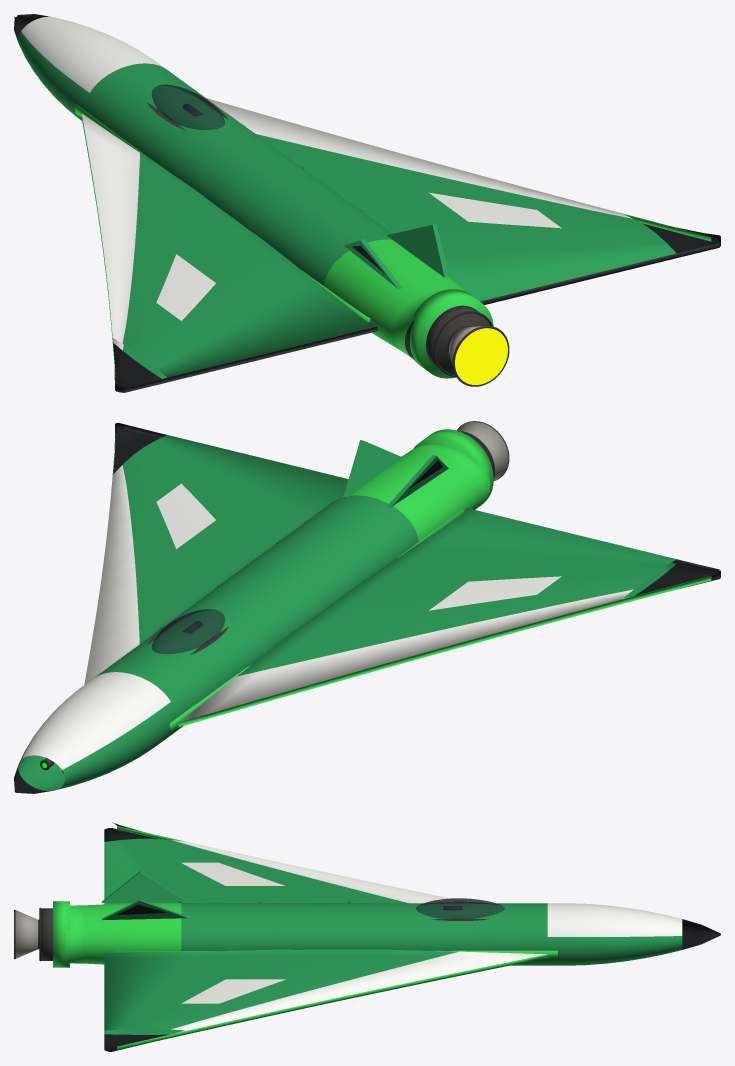
File: Ship_Longwing_7.glb
3 views of the same model, one above another, from view 1: azimuth 30°, elevation 25°; view 2: azimuth 150°, elevation 25°; view 3: azimuth 270°, elevation 25° (orthographic). The views are drawn at different scales.
Visible parts, largest first — view 1: Wing_Left_LongDeltaAerofoil_BakedPaint, Fuselage_OrganicEllipsoidTaperedBody_BakedPaint, Wing_Right_LongDeltaAerofoil_BakedPaint, EngineEmitter, AftCollar_IntegratedSingleEngineBand, CanopyGlass_LowInsetDome, EngineBlock_AftDarkSingleEngineHousing, TailFin_Right_CantedStabilizer, TailFin_Left_CantedStabilizer, WingRoot_Left_EmbeddedShoulder; view 2: Fuselage_OrganicEllipsoidTaperedBody_BakedPaint, Wing_Left_LongDeltaAerofoil_BakedPaint, Wing_Right_LongDeltaAerofoil_BakedPaint, CanopyGlass_LowInsetDome, TailFin_Right_CantedStabilizer, AftCollar_IntegratedSingleEngineBand, EngineBell_Center_BroadBurnishedNozzle, TailFin_Left_CantedStabilizer, WingRoot_Left_EmbeddedShoulder; view 3: Fuselage_OrganicEllipsoidTaperedBody_BakedPaint, Wing_Right_LongDeltaAerofoil_BakedPaint, Wing_Left_LongDeltaAerofoil_BakedPaint, CanopyGlass_LowInsetDome, TailFin_Left_CantedStabilizer, AftCollar_IntegratedSingleEngineBand, EngineBell_Center_BroadBurnishedNozzle, TailFin_Right_CantedStabilizer, EngineBlock_AftDarkSingleEngineHousing, WingRoot_Right_EmbeddedShoulder.
Part boxes in pixels (left/top/right/bottom): Wing_Left_LongDeltaAerofoil_BakedPaint: left=81, top=114, right=378, bottom=392; Fuselage_OrganicEllipsoidTaperedBody_BakedPaint: left=14, top=14, right=465, bottom=360; Wing_Right_LongDeltaAerofoil_BakedPaint: left=206, top=98, right=720, bottom=304; EngineEmitter: left=455, top=328, right=507, bottom=384; AftCollar_IntegratedSingleEngineBand: left=409, top=289, right=493, bottom=378; CanopyGlass_LowInsetDome: left=151, top=84, right=224, bottom=130; EngineBlock_AftDarkSingleEngineHousing: left=426, top=305, right=490, bottom=374; TailFin_Right_CantedStabilizer: left=387, top=224, right=448, bottom=277; TailFin_Left_CantedStabilizer: left=344, top=239, right=402, bottom=288; WingRoot_Left_EmbeddedShoulder: left=75, top=104, right=370, bottom=322; Fuselage_OrganicEllipsoidTaperedBody_BakedPaint: left=14, top=444, right=490, bottom=793; Wing_Left_LongDeltaAerofoil_BakedPaint: left=177, top=508, right=720, bottom=727; Wing_Right_LongDeltaAerofoil_BakedPaint: left=84, top=423, right=348, bottom=684; CanopyGlass_LowInsetDome: left=152, top=609, right=224, bottom=654; TailFin_Right_CantedStabilizer: left=344, top=440, right=402, bottom=497; AftCollar_IntegratedSingleEngineBand: left=413, top=429, right=493, bottom=509; EngineBell_Center_BroadBurnishedNozzle: left=457, top=422, right=508, bottom=480; TailFin_Left_CantedStabilizer: left=386, top=455, right=448, bottom=507; WingRoot_Left_EmbeddedShoulder: left=169, top=509, right=463, bottom=731; Fuselage_OrganicEllipsoidTaperedBody_BakedPaint: left=65, top=902, right=720, bottom=965; Wing_Right_LongDeltaAerofoil_BakedPaint: left=104, top=949, right=549, bottom=1051; Wing_Left_LongDeltaAerofoil_BakedPaint: left=104, top=822, right=458, bottom=904; CanopyGlass_LowInsetDome: left=416, top=898, right=504, bottom=919; TailFin_Left_CantedStabilizer: left=102, top=871, right=187, bottom=902; AftCollar_IntegratedSingleEngineBand: left=53, top=901, right=69, bottom=967; EngineBell_Center_BroadBurnishedNozzle: left=15, top=910, right=37, bottom=958; TailFin_Right_CantedStabilizer: left=102, top=899, right=187, bottom=920; EngineBlock_AftDarkSingleEngineHousing: left=41, top=908, right=52, bottom=960; WingRoot_Right_EmbeddedShoulder: left=114, top=950, right=557, bottom=957.
Bounding box in the file's own units: 6.34 × 1.05 × 8.46.
